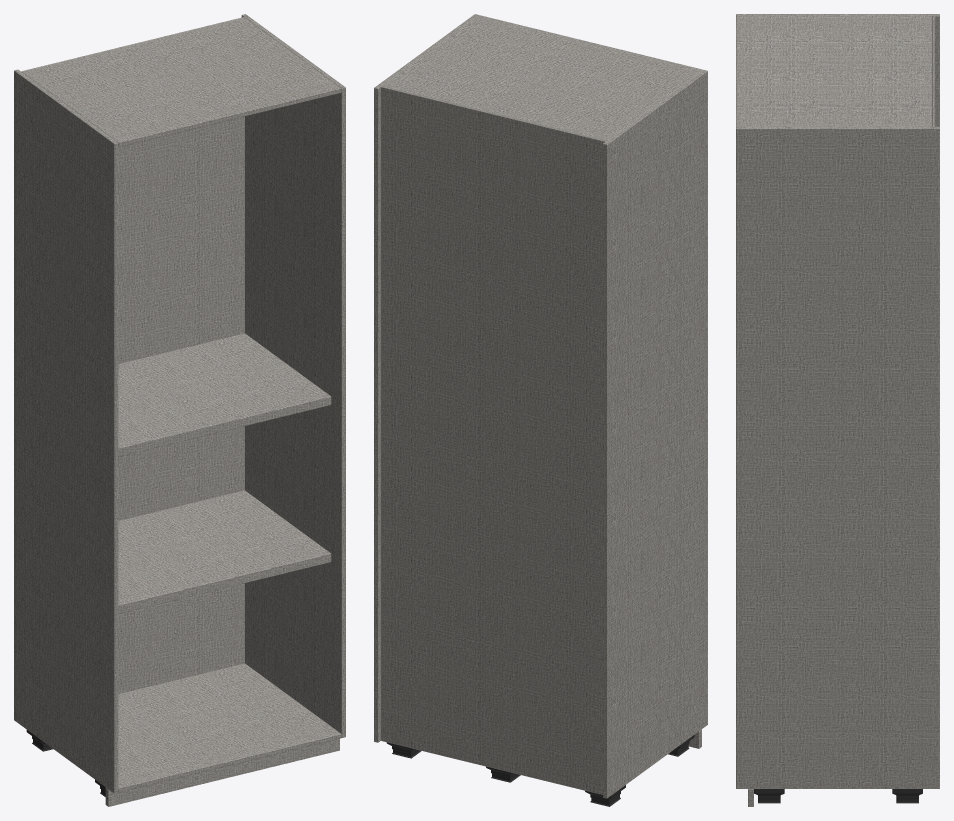
File: cbib12143.gltf
3 renders of one model, left to right at view 1: azimuth 30°, elevation 25°; view 2: azimuth 150°, elevation 25°; view 3: azimuth 270°, elevation 25°, orthographic.
Visible parts, largest first — view 1: CBIB12143; view 2: CBIB12143; view 3: CBIB12143.
Boxes of the visible parts, bbox=[...] form: CBIB12143: bbox=[14, 14, 345, 806]; CBIB12143: bbox=[374, 14, 707, 806]; CBIB12143: bbox=[736, 14, 939, 806].
Bounding box in the file's own units: 0.8 × 2.2 × 0.6.
3 materials, 2 textured.
